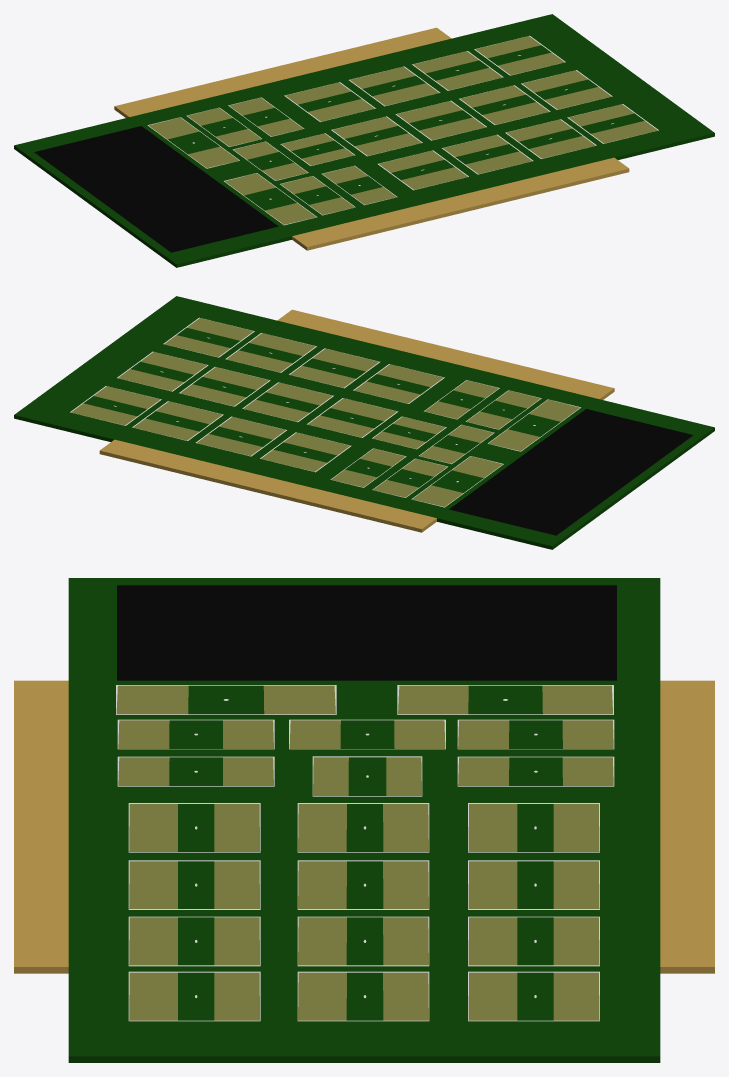
The model's file is Handyleiterplatte.fbx.
3 renders of one model, top to bottom at view 1: azimuth 30°, elevation 25°; view 2: azimuth 150°, elevation 25°; view 3: azimuth 270°, elevation 25°, orthographic. The views are drawn at different scales.
Parts seen in each view (by area): view 1: Handy-Leiterplatte; view 2: Handy-Leiterplatte; view 3: Handy-Leiterplatte.
Part boxes in pixels (bbox=[...]): Handy-Leiterplatte: bbox=[14, 14, 714, 267]; Handy-Leiterplatte: bbox=[14, 296, 714, 549]; Handy-Leiterplatte: bbox=[14, 578, 714, 1062].
Size of the model in its own units: 228 by 1.47 by 141.
